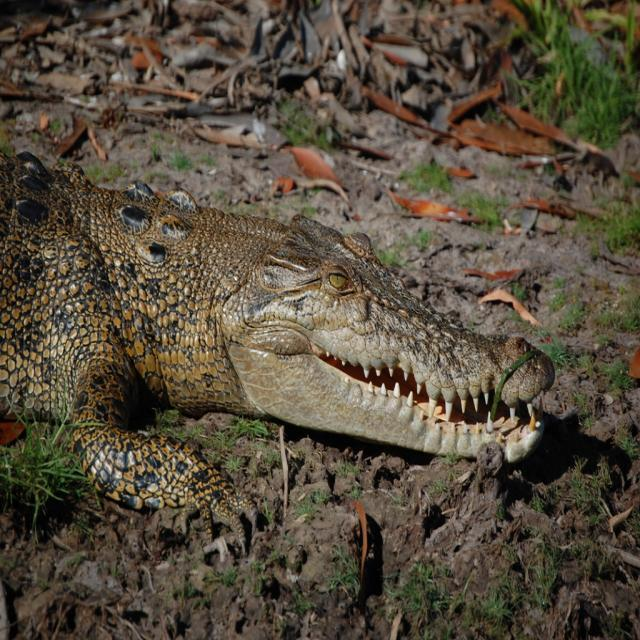crocodile: (1, 147, 560, 543)
